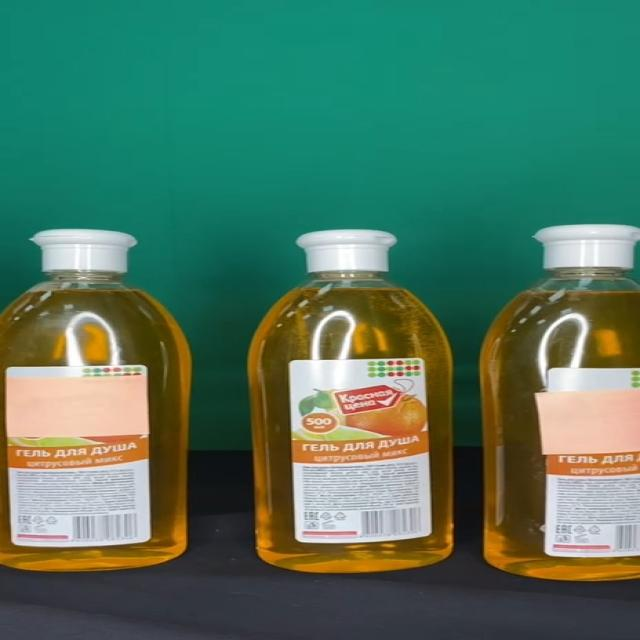Bottle: (247, 230, 453, 572), (0, 229, 193, 570), (480, 224, 640, 582)
Cap: (532, 225, 640, 268), (32, 230, 137, 274), (295, 230, 399, 272)
